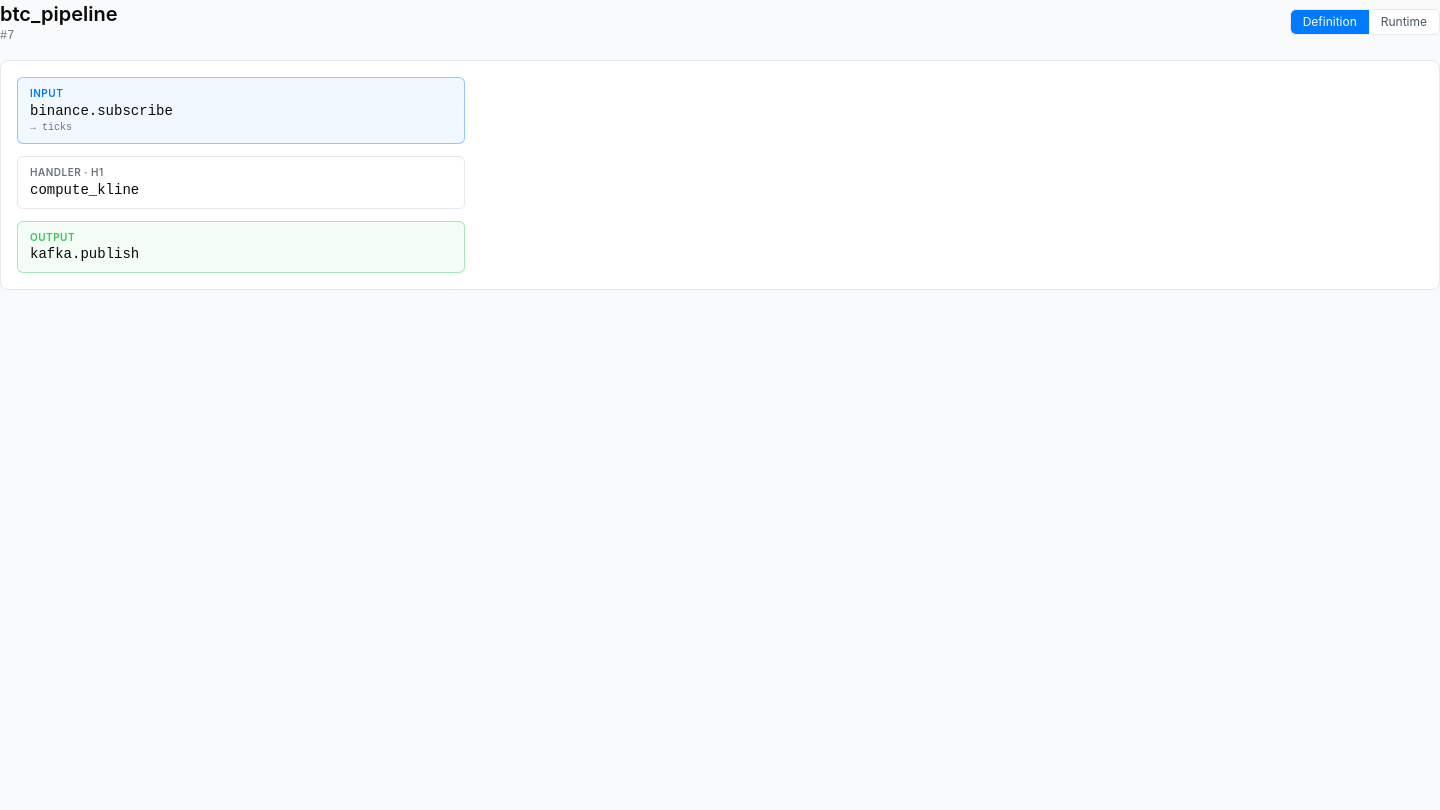
Test: <PipelineDetail> › clicking the input node falls back to a not-configured placeholder when no datasource exists
This screenshot has width=1440, height=810.
Click the button with aria-label "input node" at (47, 93), box [17,77,465,144]
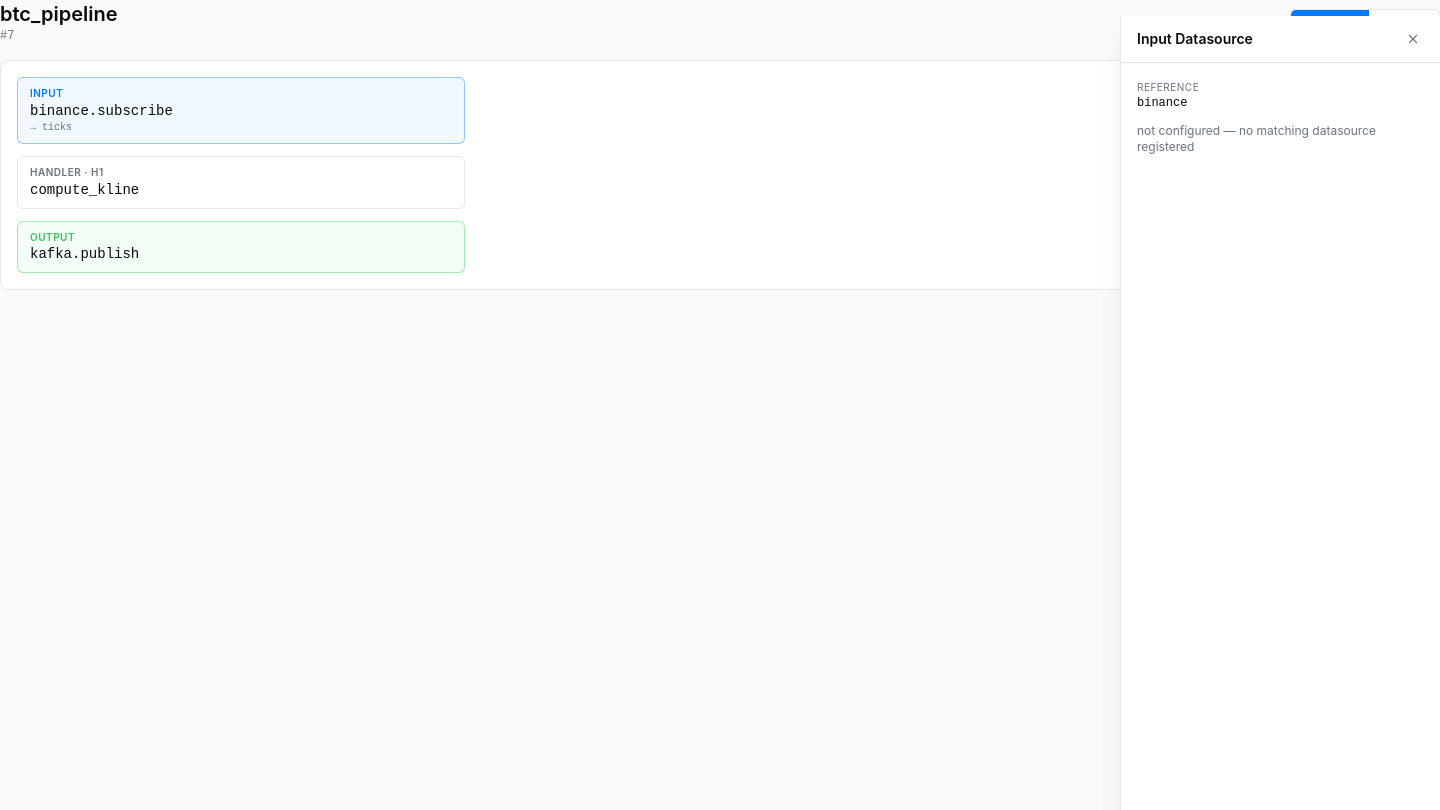
Expected: the text "not configured — no matching datasource registered" is shown, [1137,123,1376,154]
